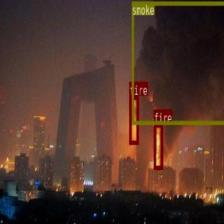fire: (130, 95, 138, 144), (154, 123, 162, 169)
smoke: (131, 0, 224, 124)
